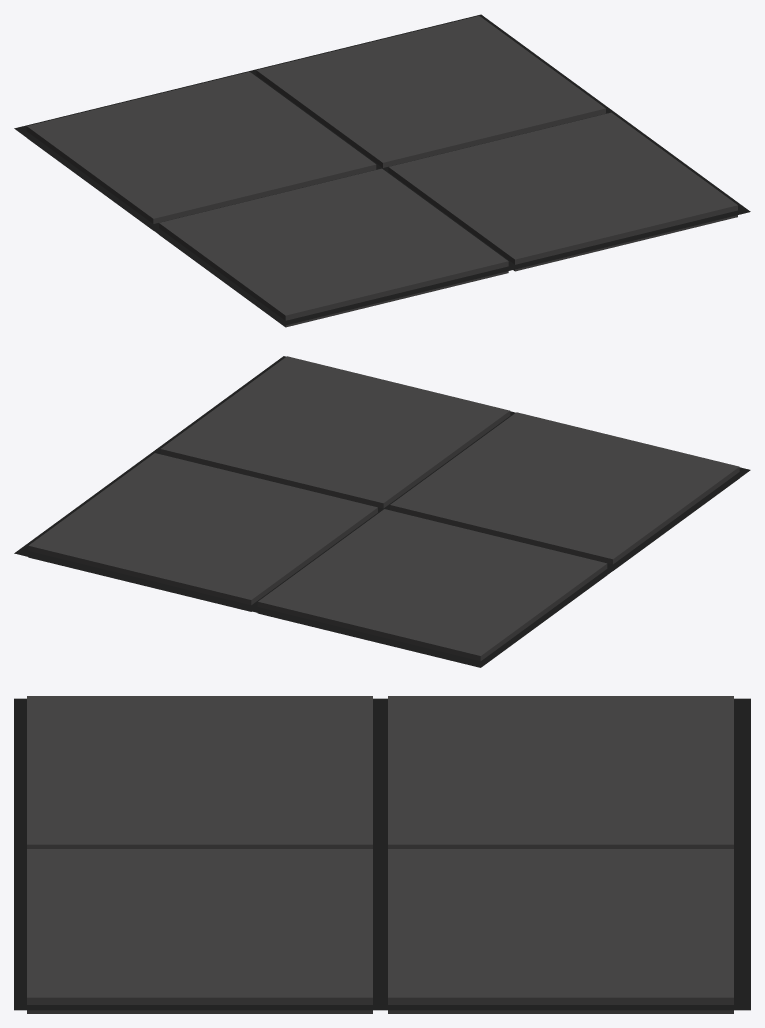
File: FlatBlack_GreyTiles.fbx
3 renders of one model, top to bottom at view 1: azimuth 30°, elevation 25°; view 2: azimuth 150°, elevation 25°; view 3: azimuth 270°, elevation 25°, orthographic. The views are drawn at different scales.
Parts seen in each view (by area): view 1: Tile_Black_Flat; view 2: Tile_Black_Flat; view 3: Tile_Black_Flat.
Part boxes in pixels (x1=…): Tile_Black_Flat: x1=14, y1=14, x2=750, y2=327; Tile_Black_Flat: x1=14, y1=356, x2=750, y2=667; Tile_Black_Flat: x1=14, y1=696, x2=750, y2=1013.
Size of the model in its own units: 800 by 19.43 by 800.
